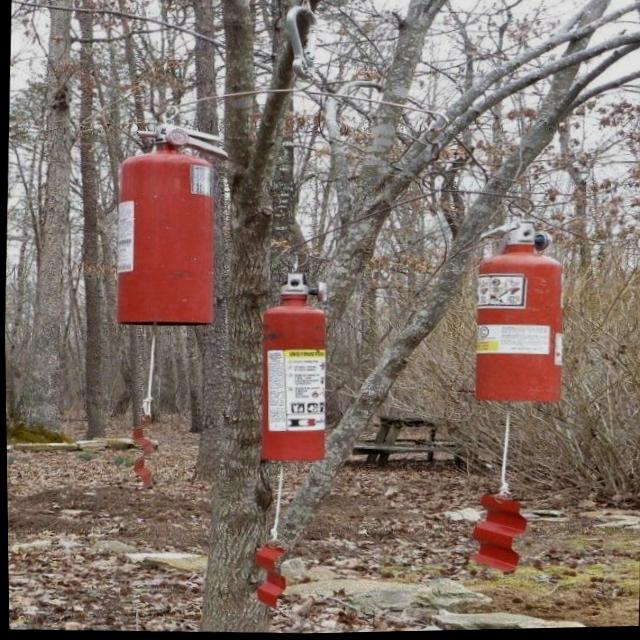FireExtinguisher: (102, 94, 239, 338), (460, 193, 581, 412), (251, 245, 336, 468)
